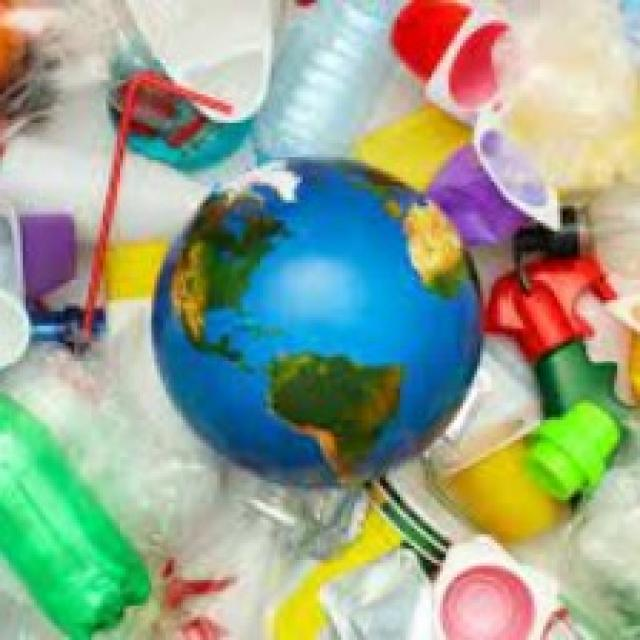plastic_bottle: (1, 368, 155, 640), (244, 1, 415, 164), (170, 447, 312, 640)
